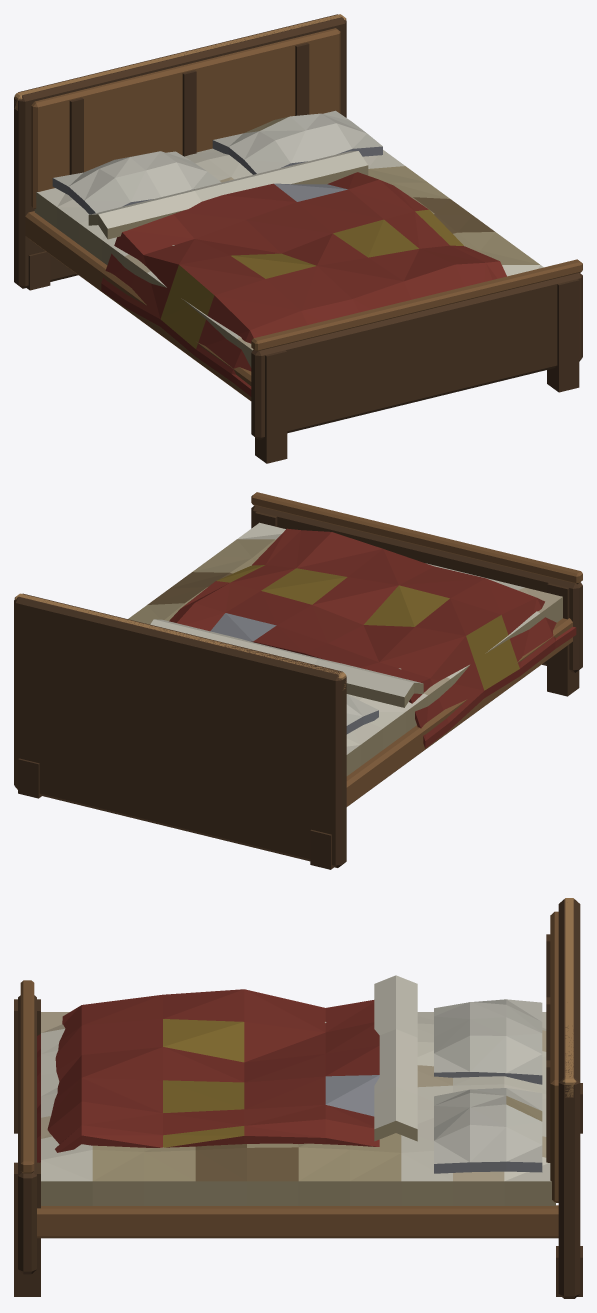
The model's file is furn_bed_double.fbx.
3 views of the same model, one above another, from view 1: azimuth 30°, elevation 25°; view 2: azimuth 150°, elevation 25°; view 3: azimuth 270°, elevation 25° (orthographic). The views are drawn at different scales.
Visible parts, largest first — view 1: furn_bed_double; view 2: furn_bed_double; view 3: furn_bed_double.
Boxes of the visible parts, bbox=[...] form: furn_bed_double: bbox=[14, 14, 582, 463]; furn_bed_double: bbox=[14, 492, 582, 869]; furn_bed_double: bbox=[14, 898, 582, 1298].
Size of the model in its own units: 1.6 by 0.9 by 2.1.
